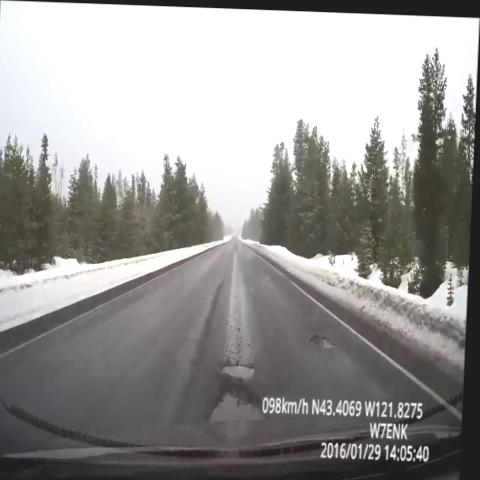pothole: (204, 345, 272, 441), (302, 301, 345, 363)
